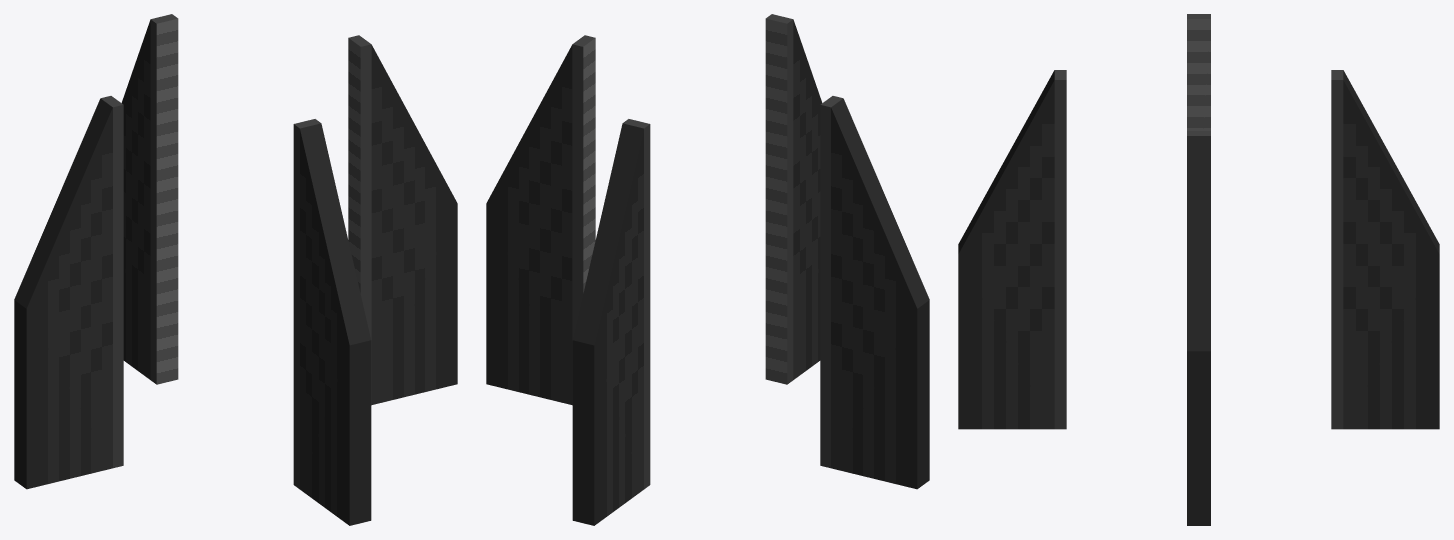
Rendered from mp_s_15_flat.obj.
The picture shows the model from 3 angles, left to right: view 1: azimuth 30°, elevation 25°; view 2: azimuth 150°, elevation 25°; view 3: azimuth 270°, elevation 25°; orthographic projection. The views are drawn at different scales.
Parts seen in each view (by area): view 1: Cube_Cube.001; view 2: Cube_Cube.001; view 3: Cube_Cube.001.
Part boxes in pixels (box(x1,y1,x2,y2)): Cube_Cube.001: box(14, 14, 457, 525); Cube_Cube.001: box(486, 14, 929, 525); Cube_Cube.001: box(958, 14, 1439, 525).
Size of the model in its own units: 2.5 by 2 by 2.5.
